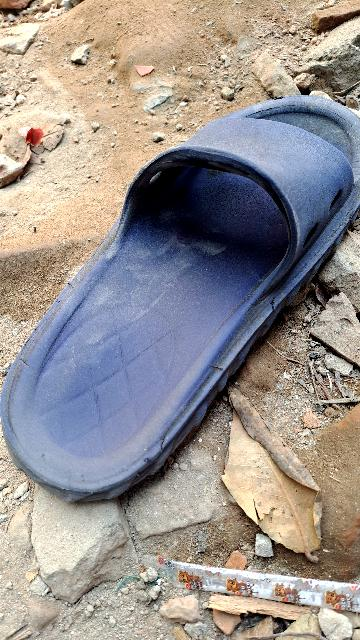sandal: (0, 86, 360, 508)
